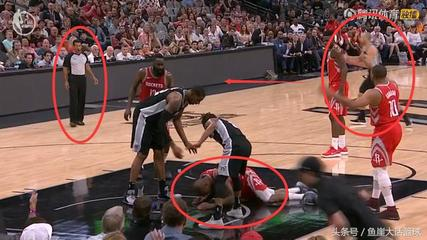10+: (1, 1, 427, 239)
down: (187, 160, 301, 216)
